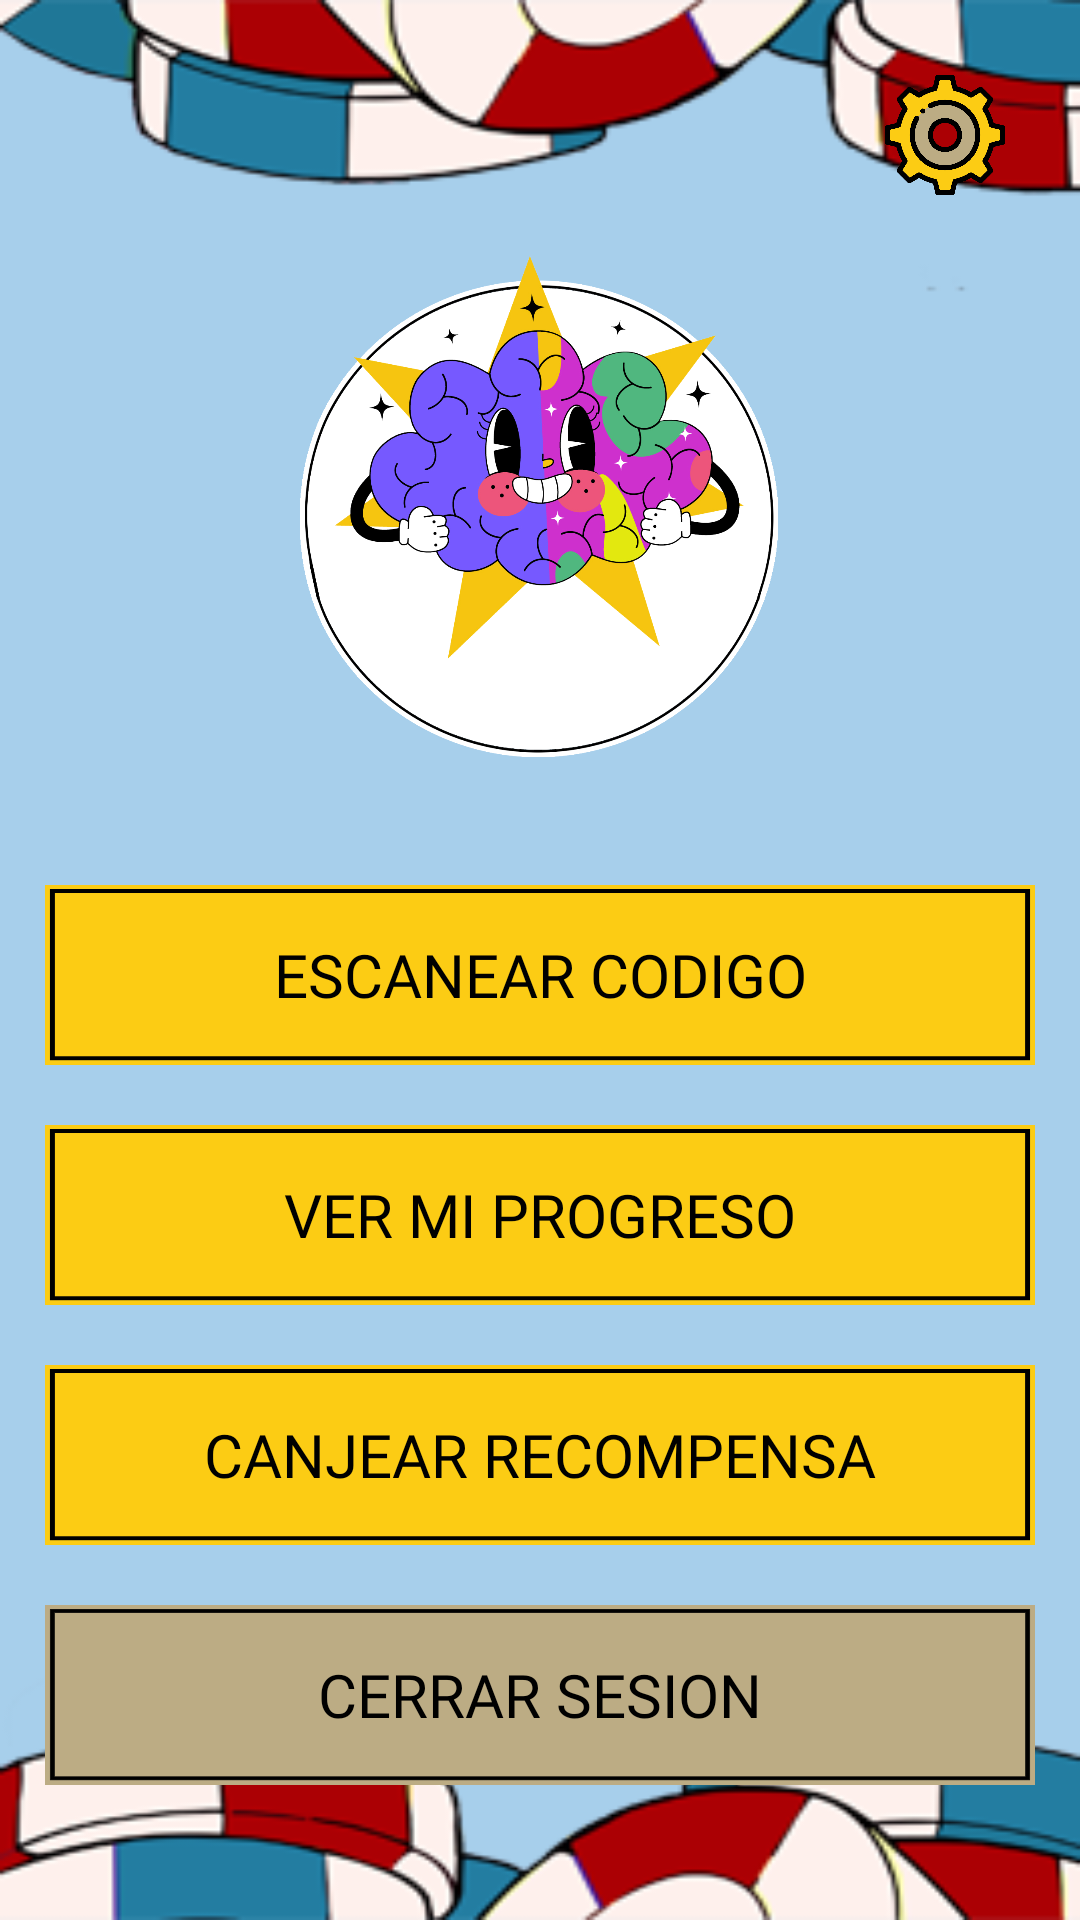

Screen size 1080 × 1920. Icon name, then its center in pixels as [x,y]:
settings icon: [945,135]
